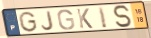G: (18, 11, 39, 33), (57, 9, 76, 31)
I: (97, 6, 109, 30)
J: (41, 10, 55, 32)
K: (76, 8, 94, 29)
S: (112, 4, 134, 29)
